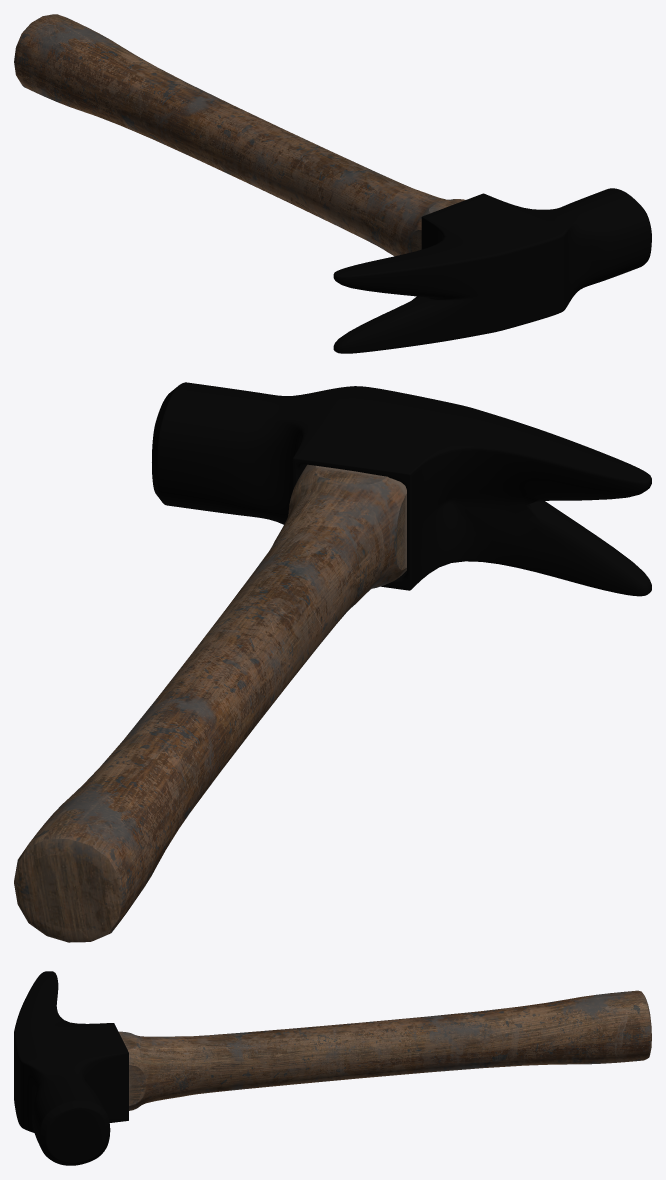
Rendered from hammer.glb.
3 renders of one model, top to bottom at view 1: azimuth 30°, elevation 25°; view 2: azimuth 150°, elevation 25°; view 3: azimuth 270°, elevation 25°, orthographic. The views are drawn at different scales.
Parts seen in each view (by area): view 1: Object_2, Object_3; view 2: Object_2, Object_3; view 3: Object_3, Object_2.
Boxes of the visible parts, x1,y1,x2,y2 form: Object_2: (333, 188, 651, 353); Object_3: (14, 14, 465, 256); Object_2: (152, 382, 651, 596); Object_3: (14, 464, 406, 942); Object_3: (119, 990, 651, 1110); Object_2: (14, 971, 128, 1165).
Size of the model in its own units: 13.46 by 3.21 by 27.12.
2 materials, 2 textured.
